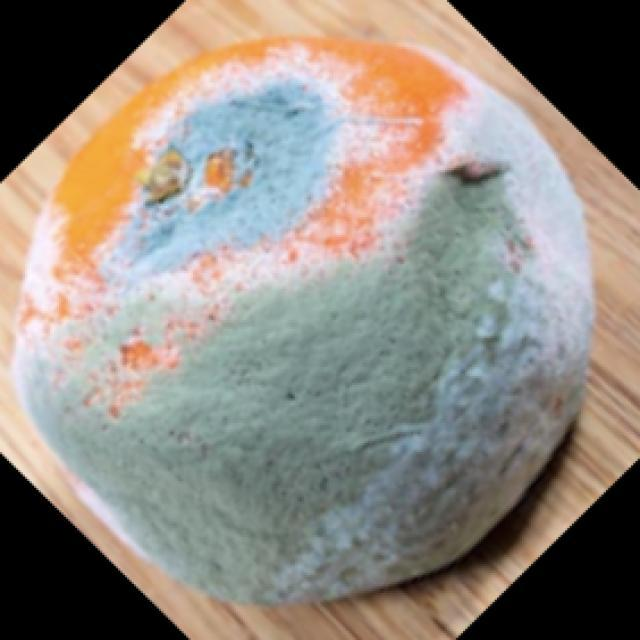sangat-busuk: (15, 37, 589, 601)
